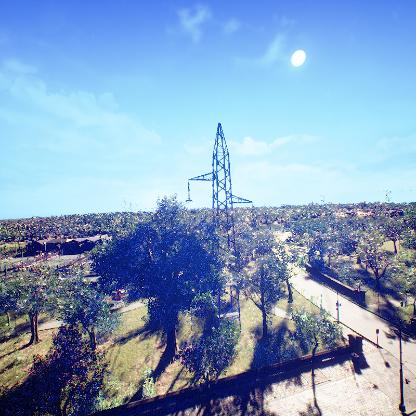tower: (185, 124, 259, 343)
